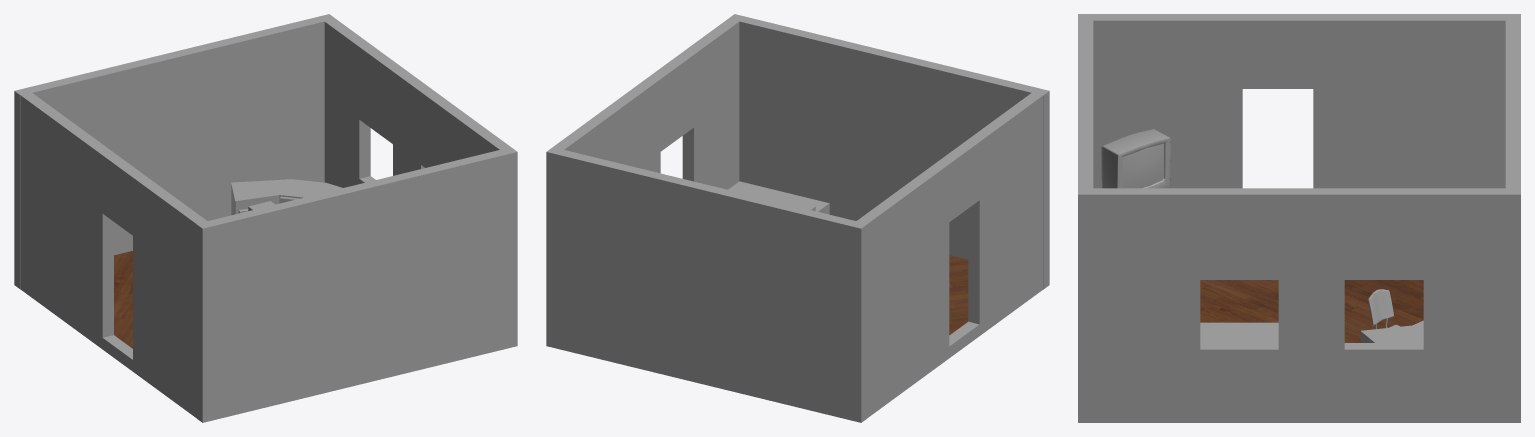
Rendered from bedRoom2Unity.fbx.
3 renders of one model, left to right at view 1: azimuth 30°, elevation 25°; view 2: azimuth 150°, elevation 25°; view 3: azimuth 270°, elevation 25°, orthographic. The views are drawn at different scales.
Visible parts, largest first — view 1: polySurface36, polySurface35, polySurface2, polySurface3, polySurface6, polySurface1; view 2: polySurface35, polySurface36, polySurface2, polySurface3, polySurface1, polySurface33; view 3: polySurface3, polySurface2, polySurface1, polySurface35, polySurface36, polySurface31, polySurface33, polySurface30, polySurface6, polySurface27.
Boxes of the visible parts, left/top/right/bottom form: polySurface36: left=196, top=147, right=517, bottom=422; polySurface35: left=14, top=14, right=335, bottom=289; polySurface2: left=21, top=93, right=207, bottom=417; polySurface3: left=324, top=18, right=510, bottom=187; polySurface6: left=231, top=179, right=342, bottom=215; polySurface1: left=114, top=251, right=132, bottom=348; polySurface35: left=546, top=147, right=867, bottom=422; polySurface36: left=728, top=14, right=1049, bottom=289; polySurface2: left=856, top=93, right=1042, bottom=417; polySurface3: left=553, top=18, right=739, bottom=189; polySurface1: left=949, top=255, right=968, bottom=335; polySurface33: left=728, top=181, right=829, bottom=214; polySurface3: left=1093, top=188, right=1505, bottom=422; polySurface2: left=1093, top=14, right=1505, bottom=188; polySurface1: left=1200, top=280, right=1423, bottom=342; polySurface35: left=1505, top=14, right=1520, bottom=422; polySurface36: left=1078, top=14, right=1093, bottom=422; polySurface31: left=1101, top=129, right=1170, bottom=188; polySurface33: left=1200, top=322, right=1278, bottom=342; polySurface30: left=1122, top=143, right=1163, bottom=188; polySurface6: left=1360, top=321, right=1423, bottom=342; polySurface27: left=1368, top=289, right=1400, bottom=327.
Bounding box in the file's own units: 0.28 × 0.165 × 0.29.
